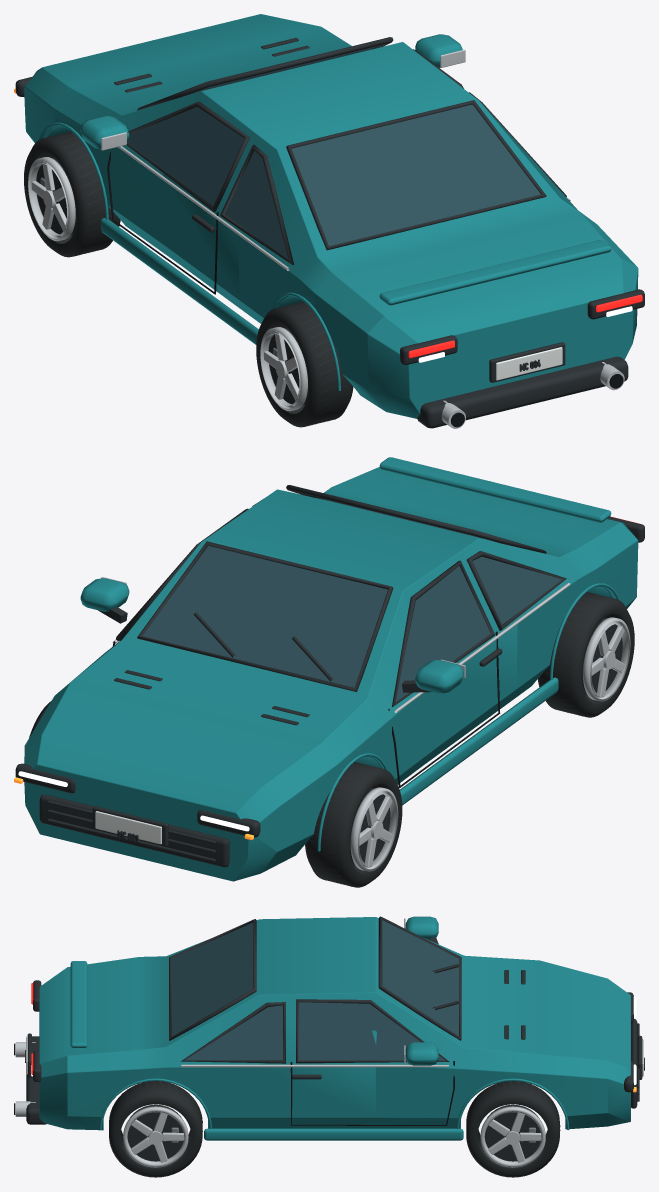
The model's file is vehicle_mistral_gt_coupe.glb.
3 views of the same model, one above another, from view 1: azimuth 30°, elevation 25°; view 2: azimuth 150°, elevation 25°; view 3: azimuth 270°, elevation 25° (orthographic). The views are drawn at different scales.
Parts seen in each view (by area): view 1: Mistral GT Coupe | continuous sculpted body, Mistral GT Coupe | rear windshield, Mistral GT Coupe | front door glazing, Mistral GT Coupe | left rear | chamfered tire, Mistral GT Coupe | left front | chamfered tire, Mistral GT Coupe | rear bumper diffuser, Mistral GT Coupe | rear deck aero lip, Mistral GT Coupe | rear quarter glazing, Mistral GT Coupe | sill protector, Mistral GT Coupe | rear windshield | weather seal, Mistral GT Coupe | front windshield | weather seal, Mistral GT Coupe | left front | alloy rim lip (+16 smaller); view 2: Mistral GT Coupe | continuous sculpted body, Mistral GT Coupe | front windshield, Mistral GT Coupe | front door glazing, Mistral GT Coupe | left front | chamfered tire, Mistral GT Coupe | left rear | chamfered tire, Mistral GT Coupe | rear deck aero lip, Mistral GT Coupe | rear quarter glazing, Mistral GT Coupe | sill protector, Mistral GT Coupe | front bumper inset, Mistral GT Coupe | front windshield | weather seal, Mistral GT Coupe | rear windshield | weather seal, Mistral GT Coupe | left front | alloy rim lip (+18 smaller); view 3: Mistral GT Coupe | continuous sculpted body, Mistral GT Coupe | rear windshield, Mistral GT Coupe | front door glazing.001, Mistral GT Coupe | front windshield, Mistral GT Coupe | right rear | chamfered tire, Mistral GT Coupe | right front | chamfered tire, Mistral GT Coupe | sill protector.001, Mistral GT Coupe | rear quarter glazing.001, Mistral GT Coupe | rear deck aero lip, Mistral GT Coupe | right rear | recessed wheel barrel, Mistral GT Coupe | right front | recessed wheel barrel, Mistral GT Coupe | front windshield | weather seal (+15 smaller).
Boxes of the visible parts, x1,y1,x2,y2 form: Mistral GT Coupe | continuous sculpted body: (24,14,638,418); Mistral GT Coupe | rear windshield: (291,104,540,246); Mistral GT Coupe | front door glazing: (127,107,244,205); Mistral GT Coupe | left rear | chamfered tire: (256,301,353,427); Mistral GT Coupe | left front | chamfered tire: (24,131,120,257); Mistral GT Coupe | rear bumper diffuser: (417,356,628,428); Mistral GT Coupe | rear deck aero lip: (379,240,611,305); Mistral GT Coupe | rear quarter glazing: (224,150,288,259); Mistral GT Coupe | sill protector: (101,218,258,344); Mistral GT Coupe | rear windshield | weather seal: (286,100,546,250); Mistral GT Coupe | front windshield | weather seal: (137,37,393,110); Mistral GT Coupe | left front | alloy rim lip: (28,157,75,241); Mistral GT Coupe | continuous sculpted body: (24,467,638,881); Mistral GT Coupe | front windshield: (142,546,387,687); Mistral GT Coupe | front door glazing: (395,566,490,701); Mistral GT Coupe | left front | chamfered tire: (305,762,402,887); Mistral GT Coupe | left rear | chamfered tire: (537,592,634,717); Mistral GT Coupe | rear deck aero lip: (379,457,611,522); Mistral GT Coupe | rear quarter glazing: (472,556,562,624); Mistral GT Coupe | sill protector: (400,677,558,805); Mistral GT Coupe | front bumper inset: (39,794,229,867); Mistral GT Coupe | front windshield | weather seal: (137,541,393,691); Mistral GT Coupe | rear windshield | weather seal: (286,485,546,553); Mistral GT Coupe | left front | alloy rim lip: (350,787,398,871); Mistral GT Coupe | continuous sculpted body: (39,917,630,1130); Mistral GT Coupe | rear windshield: (171,922,253,1036); Mistral GT Coupe | front door glazing.001: (298,1002,445,1060); Mistral GT Coupe | front windshield: (382,920,458,1035); Mistral GT Coupe | right rear | chamfered tire: (109,1081,202,1177); Mistral GT Coupe | right front | chamfered tire: (466,1081,559,1177); Mistral GT Coupe | sill protector.001: (204,1128,463,1140); Mistral GT Coupe | rear quarter glazing.001: (185,1005,282,1060); Mistral GT Coupe | rear deck aero lip: (70,961,87,1047); Mistral GT Coupe | right rear | recessed wheel barrel: (127,1104,183,1161); Mistral GT Coupe | right front | recessed wheel barrel: (484,1104,540,1161); Mistral GT Coupe | front windshield | weather seal: (378,916,461,1040).
Size of the model in its own units: 2.56 by 1.45 by 4.93.
